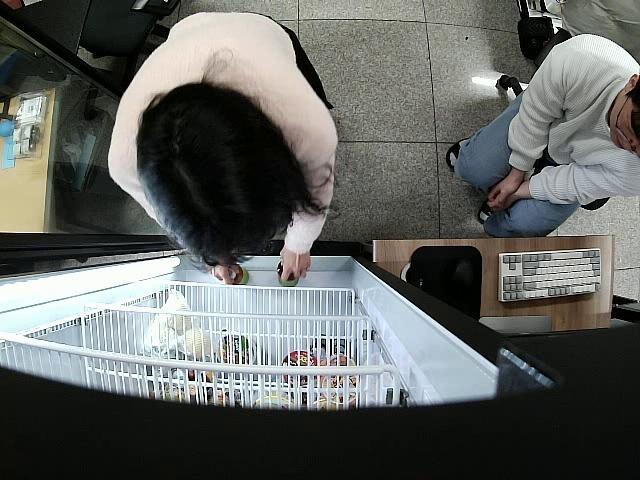19_17cha: (276, 260, 300, 288), (228, 261, 250, 286)
